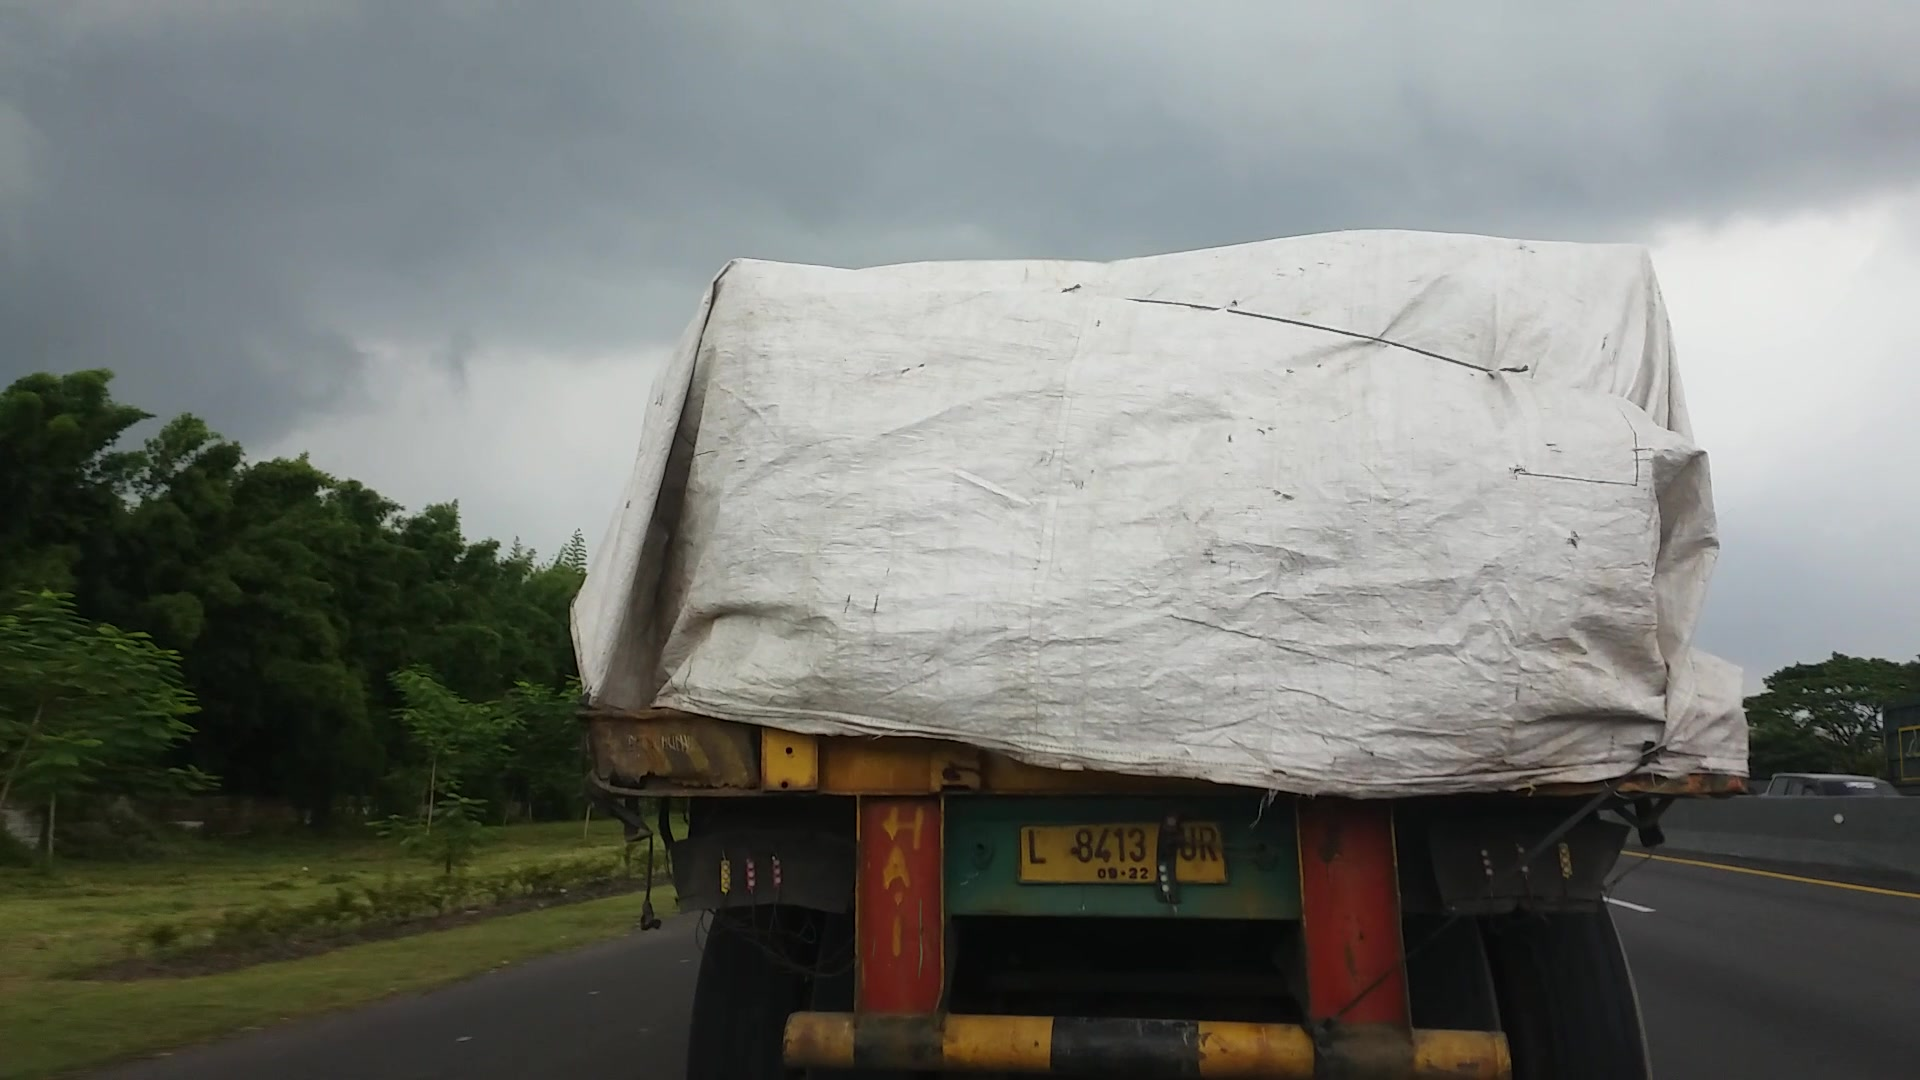plate_positive: (1018, 822, 1228, 885)
